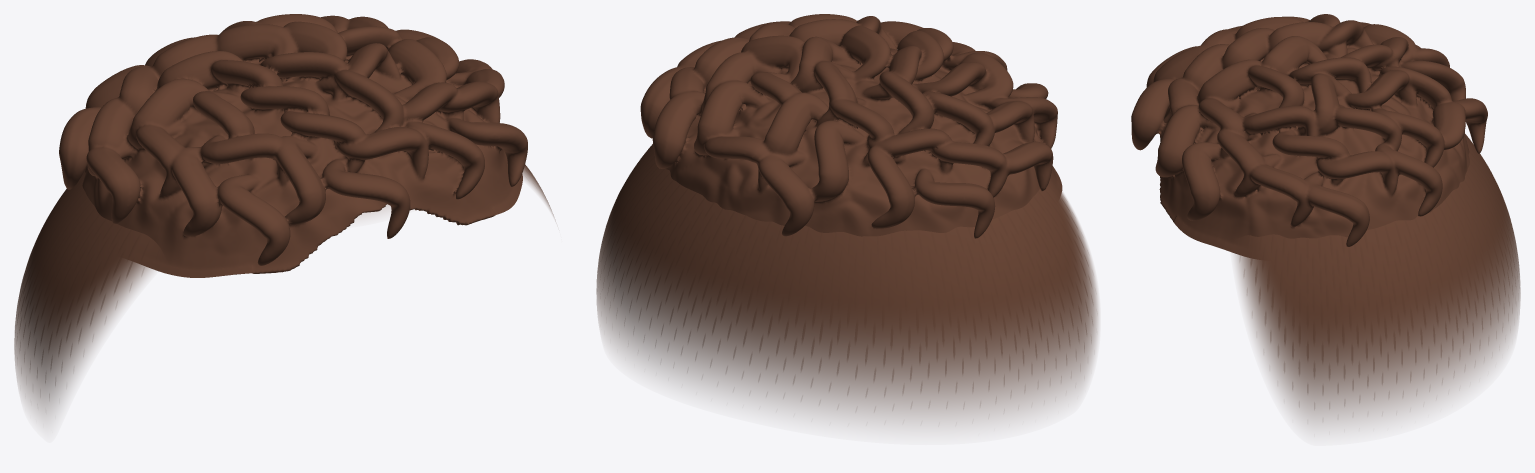
The model's file is Masculine-curly-top-ears258-hair.glb.
3 views of the same model, side by side, from view 1: azimuth 30°, elevation 25°; view 2: azimuth 150°, elevation 25°; view 3: azimuth 270°, elevation 25° (orthographic). The views are drawn at different scales.
Parts seen in each view (by area): view 1: 226 hair / Hair252 / sculpted curl groups, 226 hair / Hair258 / smooth side fade, 226 hair / Hair258 / directional fade marks; view 2: 226 hair / Hair258 / smooth side fade, 226 hair / Hair252 / sculpted curl groups, 226 hair / Hair258 / directional fade marks; view 3: 226 hair / Hair252 / sculpted curl groups, 226 hair / Hair258 / smooth side fade, 226 hair / Hair258 / directional fade marks.
Part boxes in pixels (bbox=[...]): 226 hair / Hair252 / sculpted curl groups: bbox=[59, 14, 527, 277]; 226 hair / Hair258 / smooth side fade: bbox=[14, 164, 555, 419]; 226 hair / Hair258 / directional fade marks: bbox=[15, 170, 159, 385]; 226 hair / Hair258 / smooth side fade: bbox=[596, 144, 1098, 424]; 226 hair / Hair252 / sculpted curl groups: bbox=[640, 14, 1062, 238]; 226 hair / Hair258 / directional fade marks: bbox=[608, 144, 1092, 395]; 226 hair / Hair252 / sculpted curl groups: bbox=[1131, 14, 1487, 258]; 226 hair / Hair258 / smooth side fade: bbox=[1233, 134, 1520, 426]; 226 hair / Hair258 / directional fade marks: bbox=[1238, 136, 1515, 408].
Size of the model in its own units: 0.9705 by 0.665 by 0.7492.
